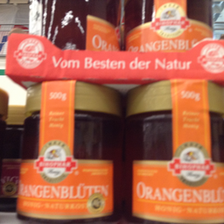honey: (124, 79, 223, 224), (21, 82, 122, 223)
